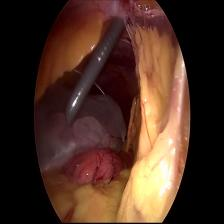Specimen Bag: (45, 96, 124, 157)
